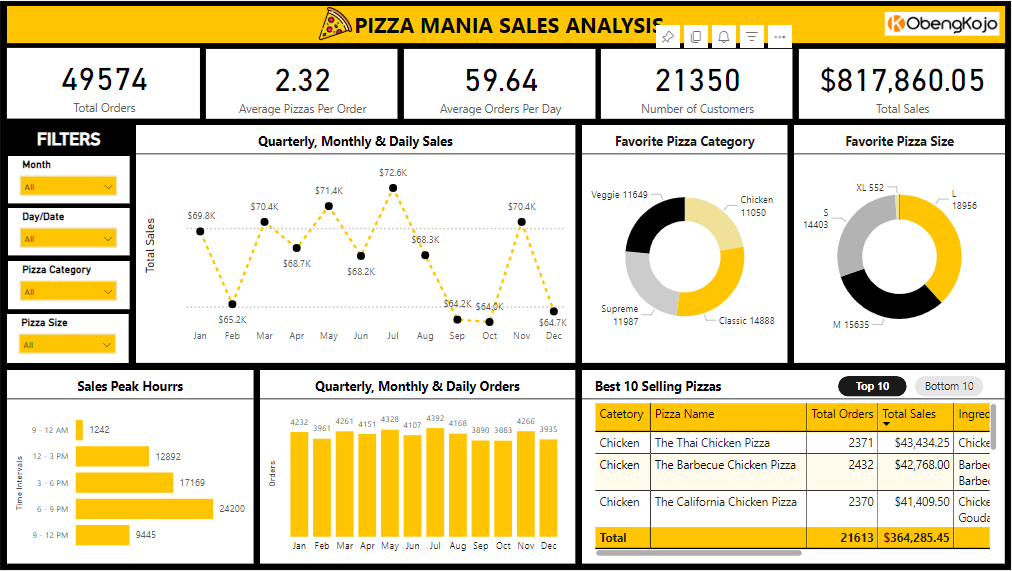

The page's visual inventory and layout, read from the dashboard file:
{"tool":"powerbi","page":{"name":"Home page","canvas":[1280,720],"ordinal":0},"visuals":[{"type":"textbox","box":[11.3,6.1,1260.6,46.8],"z":0},{"type":"tableEx","title":"Best Selling Pizzas","fields":{"Values":["Pizza_Types.Catetory","Pizza_Types.Pizza Name","Measures (2).Total Orders","Measures (2).Total Sales","Pizza_Types.Ingredients"]},"box":[736.3,468,532.6,243.6],"z":1000},{"type":"tableEx","title":"Worst Selling Pizzas","fields":{"Values":["Pizza_Types.Catetory","Pizza_Types.Pizza Name","Measures (2).Total Orders","Measures (2).Total Sales"]},"box":[736.3,468,532.6,240.9],"z":2000},{"type":"bookmarkNavigator","box":[1060.6,473.9,185,26.1],"z":3000},{"type":"image","box":[1113.9,9.4,156.1,40],"z":4000},{"type":"lineChart","title":"Quarterly, Monthly & Daily Sales","fields":{"Category":["Date.Quarter","Date.Month","Date.Day"],"Y":["Measures (2).Total Sales"]},"box":[172,157,556,301.2],"z":5000},{"type":"donutChart","title":"Favorite Pizza Category","fields":{"Category":["Pizza_Types.Catetory"],"Y":["Sum(Order_Details.Order Quantity)"]},"box":[736.3,156.9,260.1,301.4],"z":6000},{"type":"card","fields":{"Values":["Measures (2).Average Pizzas Per Order"]},"box":[645.5,60.6,308.3,88.1],"z":7000},{"type":"card","fields":{"Values":["Measures (2).Total Orders"]},"box":[328.6,60,307.1,88.6],"z":8000},{"type":"card","fields":{"Values":["Measures (2).Average Orders Per Day"]},"box":[963,60,308.5,88.5],"z":9000},{"type":"card","fields":{"Values":["Measures (2).Total Sales"]},"box":[11.4,60,308.6,88.6],"z":10000},{"type":"slicer","title":"Sales by Day","fields":{"Values":["Date.Day"]},"box":[9.6,262.3,154.3,60.4],"z":11000},{"type":"slicer","title":"Sales by Day","fields":{"Values":["Date.Month"]},"box":[9.6,193.9,154.3,62],"z":12000},{"type":"slicer","title":"Sales by Day","fields":{"Values":["Pizza_Types.Catetory"]},"box":[9.6,328.9,154.2,60.6],"z":13000},{"type":"slicer","title":"Sales by Day","fields":{"Values":["Pizzas.Pizza Size"]},"box":[9.4,396.1,153.9,62.2],"z":14000},{"type":"textbox","box":[9.5,156.4,153.6,34.1],"z":15000},{"type":"barChart","title":"Sales Peak Hourrs","fields":{"Category":["Orders.Time Intervals"],"Y":["Sum(Orders.Time Interval Sort)"]},"box":[8.3,466.6,312.4,245],"z":16000},{"type":"clusteredColumnChart","title":"Quarterly, Monthly & Daily Orders","fields":{"Category":["Date.Quarter","Date.Month","Date.Day"],"Y":["Sum(Order_Details.Order Quantity)"]},"box":[328.9,466.6,399.1,245],"z":17000},{"type":"donutChart","title":"Favorite Pizza Size","fields":{"Y":["Sum(Order_Details.Order Quantity)"],"Category":["Pizzas.Pizza Size"]},"box":[1004.7,156.9,267,301.4],"z":18000},{"type":"image","box":[440.4,2.8,61.9,52.3],"z":19000}]}

Visuals, with their boxes on the page's 1280x720 design canvas (x1, y1, x2, y2). These are canvas units, not pixel positions in the 1012x571 screenshot, which may show the page scaled, cropped or inside an application window:
textbox: detection(11, 6, 1272, 53)
"Best Selling Pizzas" tableEx: detection(736, 468, 1269, 712)
"Worst Selling Pizzas" tableEx: detection(736, 468, 1269, 709)
bookmarkNavigator: detection(1061, 474, 1246, 500)
image: detection(1114, 9, 1270, 49)
"Quarterly, Monthly & Daily Sales" lineChart: detection(172, 157, 728, 458)
"Favorite Pizza Category" donutChart: detection(736, 157, 996, 458)
card - Measures (2).Average Pizzas Per Order: detection(646, 61, 954, 149)
card - Measures (2).Total Orders: detection(329, 60, 636, 149)
card - Measures (2).Average Orders Per Day: detection(963, 60, 1272, 148)
card - Measures (2).Total Sales: detection(11, 60, 320, 149)
"Sales by Day" slicer: detection(10, 262, 164, 323)
"Sales by Day" slicer: detection(10, 194, 164, 256)
"Sales by Day" slicer: detection(10, 329, 164, 390)
"Sales by Day" slicer: detection(9, 396, 163, 458)
textbox: detection(10, 156, 163, 190)
"Sales Peak Hourrs" barChart: detection(8, 467, 321, 712)
"Quarterly, Monthly & Daily Orders" clusteredColumnChart: detection(329, 467, 728, 712)
"Favorite Pizza Size" donutChart: detection(1005, 157, 1272, 458)
image: detection(440, 3, 502, 55)
